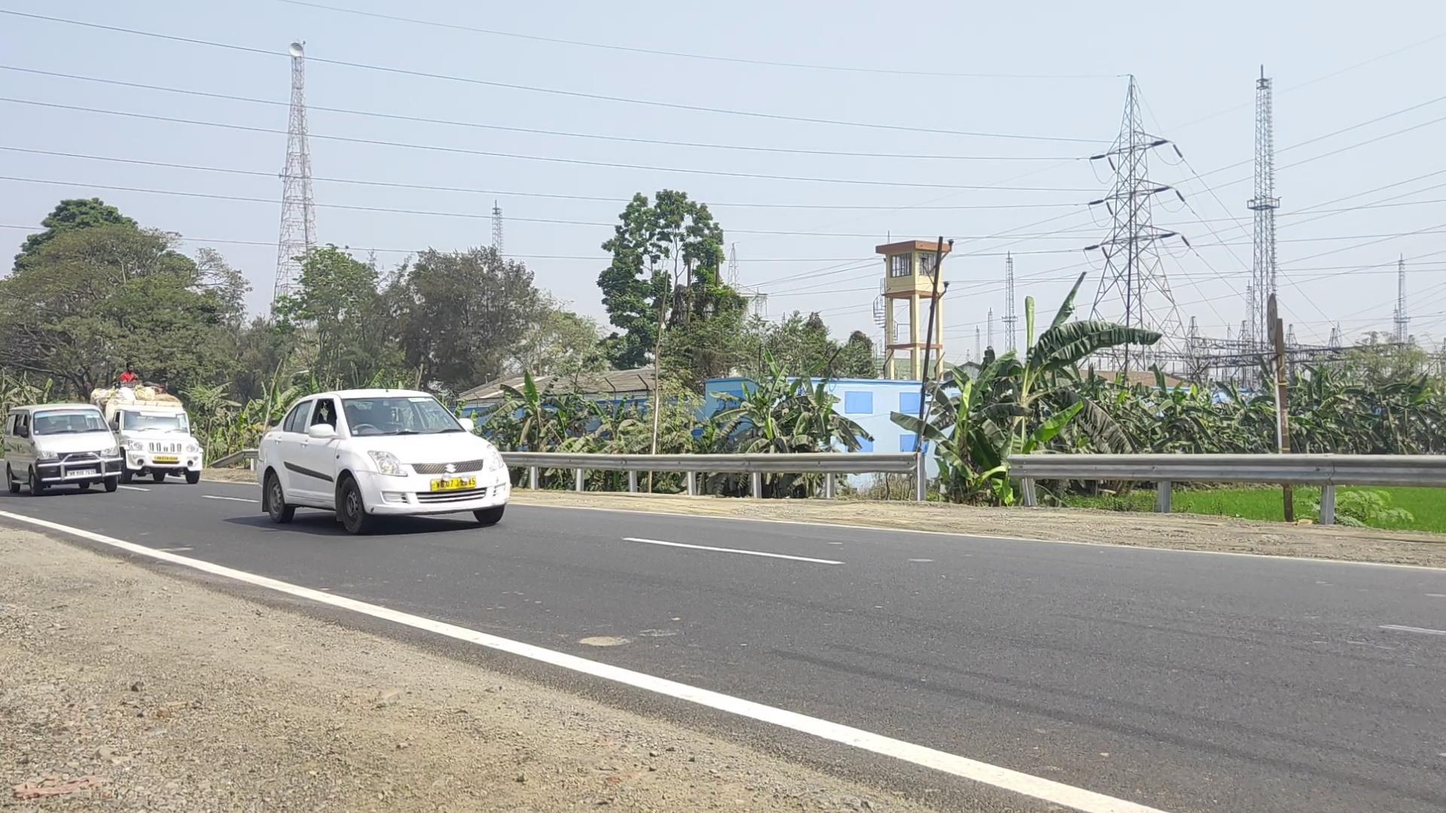car: (256, 388, 510, 534)
van: (87, 361, 203, 484), (3, 402, 123, 496)
